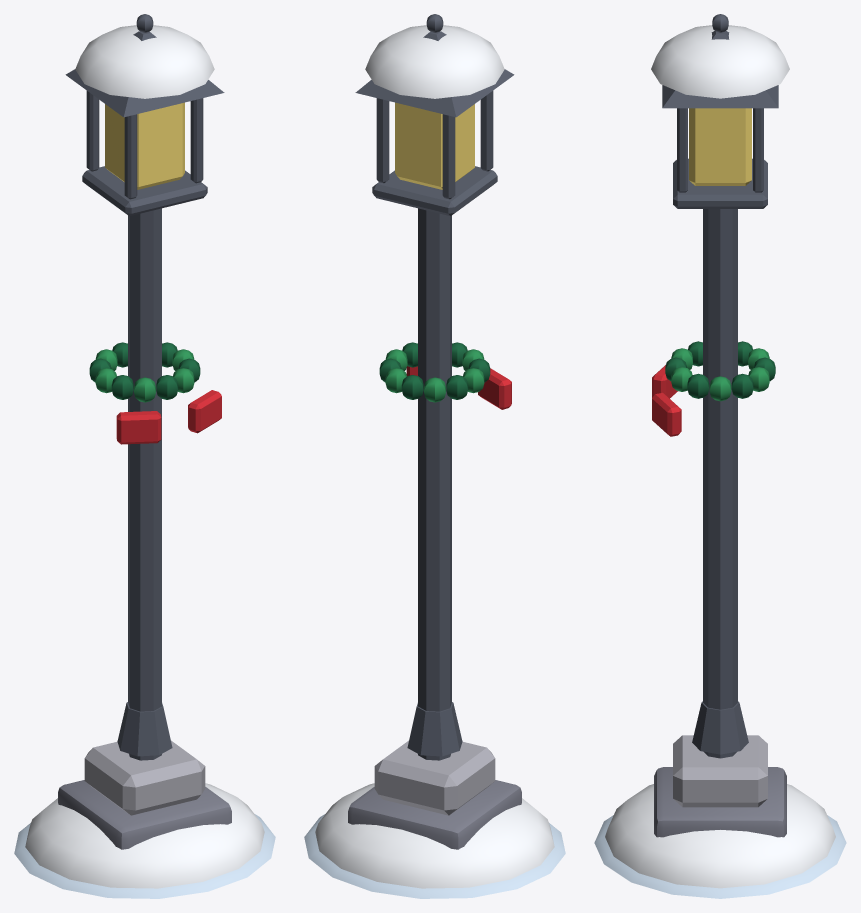
File: prop_lantern_post.glb
3 renders of one model, left to right at view 1: azimuth 30°, elevation 25°; view 2: azimuth 150°, elevation 25°; view 3: azimuth 270°, elevation 25°, orthographic.
Visible parts, largest first — view 1: lantern_post; view 2: lantern_post; view 3: lantern_post.
Part boxes in pixels (box(x1,y1,x2,y2)): lantern_post: box(14, 14, 275, 898); lantern_post: box(304, 14, 565, 898); lantern_post: box(594, 14, 846, 898).
Size of the model in its own units: 0.84 by 2.89 by 0.798.
1 material, 1 textured.
